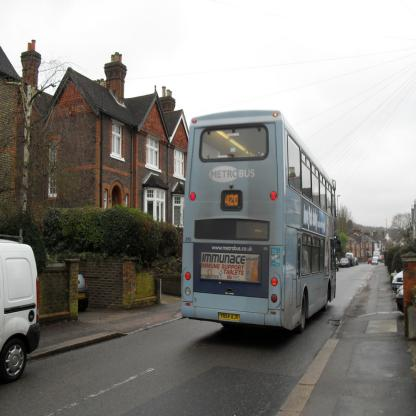Car: (1, 243, 43, 386), (396, 286, 406, 314), (392, 271, 406, 287), (341, 258, 349, 268)
